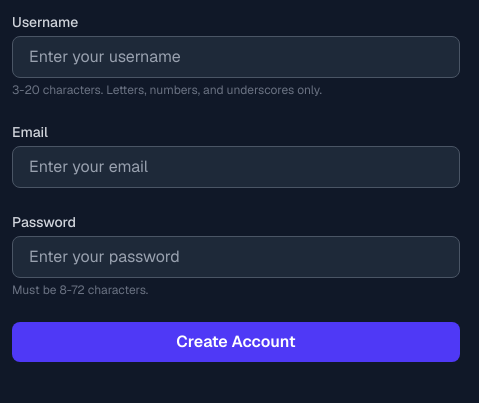
Scenario: RegisterForm › shows error for invalid email
Type "validuser" into the field labelled "Username" at x=236, y=57, box [12,36,460,78]
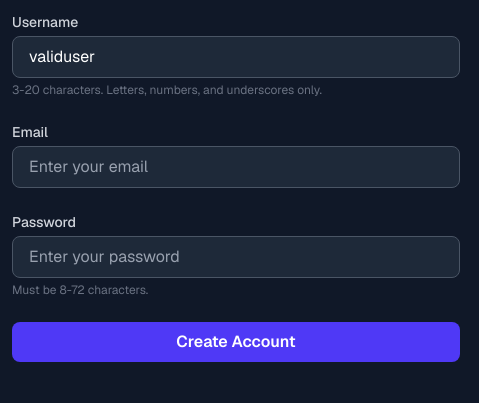
Type "not-an-email" into the field labelled "Email" at x=236, y=167, box [12,146,460,188]
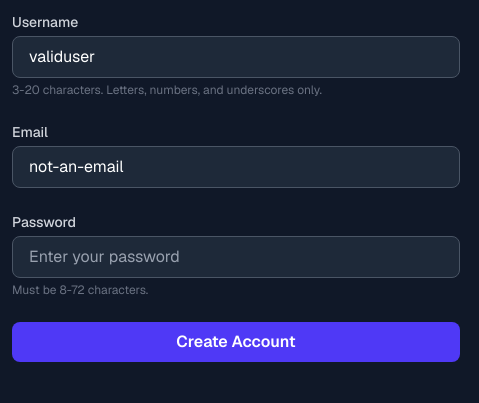
Type "securepass123" into the password field labelled "Password" at x=236, y=257, box [12,236,460,278]
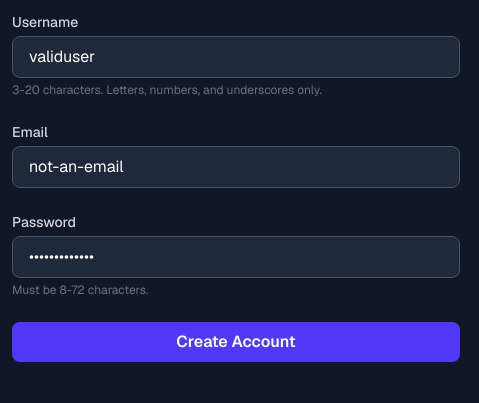
Click the button "Create Account" at x=236, y=342, box [12,322,460,362]
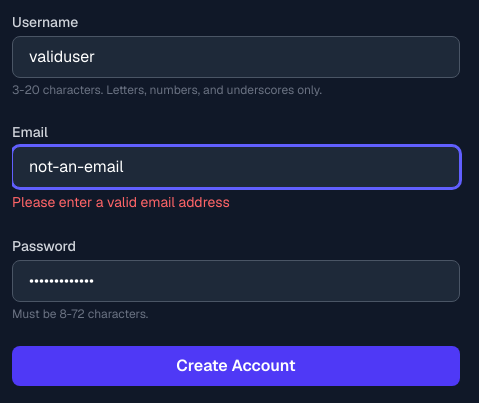
Expected: the text "Please enter a valid email address" is shown, [12,193,230,211]
